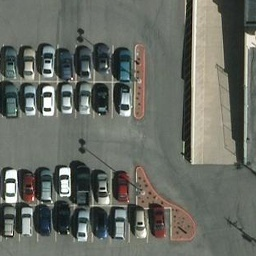car: (40, 42, 55, 78), (93, 39, 108, 75), (115, 42, 130, 78), (117, 83, 132, 119), (96, 82, 111, 118), (77, 82, 92, 118), (59, 82, 74, 118), (41, 83, 56, 119), (22, 84, 37, 120), (3, 82, 18, 118), (2, 166, 17, 202), (20, 204, 35, 240), (21, 166, 36, 202), (38, 167, 53, 203), (35, 204, 50, 240), (56, 164, 71, 200), (75, 168, 90, 204), (92, 167, 107, 203), (112, 167, 127, 203), (57, 204, 72, 240), (75, 208, 90, 244), (93, 208, 108, 244), (111, 208, 126, 244), (133, 208, 148, 244), (151, 209, 166, 245), (2, 44, 17, 79), (21, 43, 36, 78), (56, 45, 71, 80), (75, 42, 90, 77), (1, 205, 15, 241)
